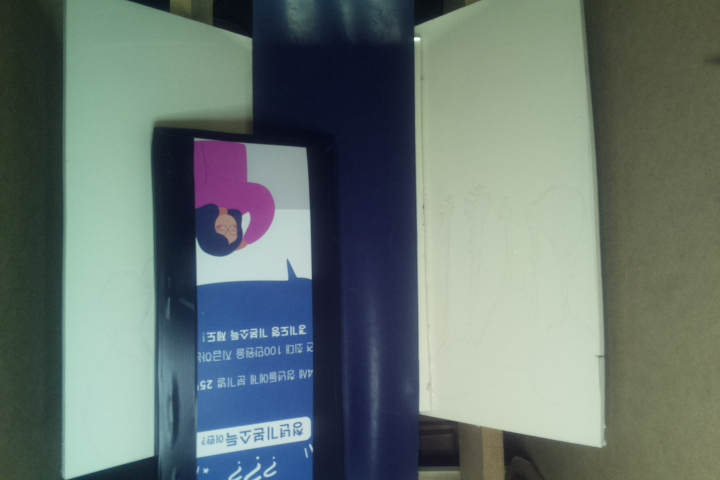book: (151, 128, 339, 480)
